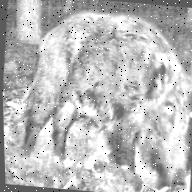boar: (11, 0, 192, 188)
